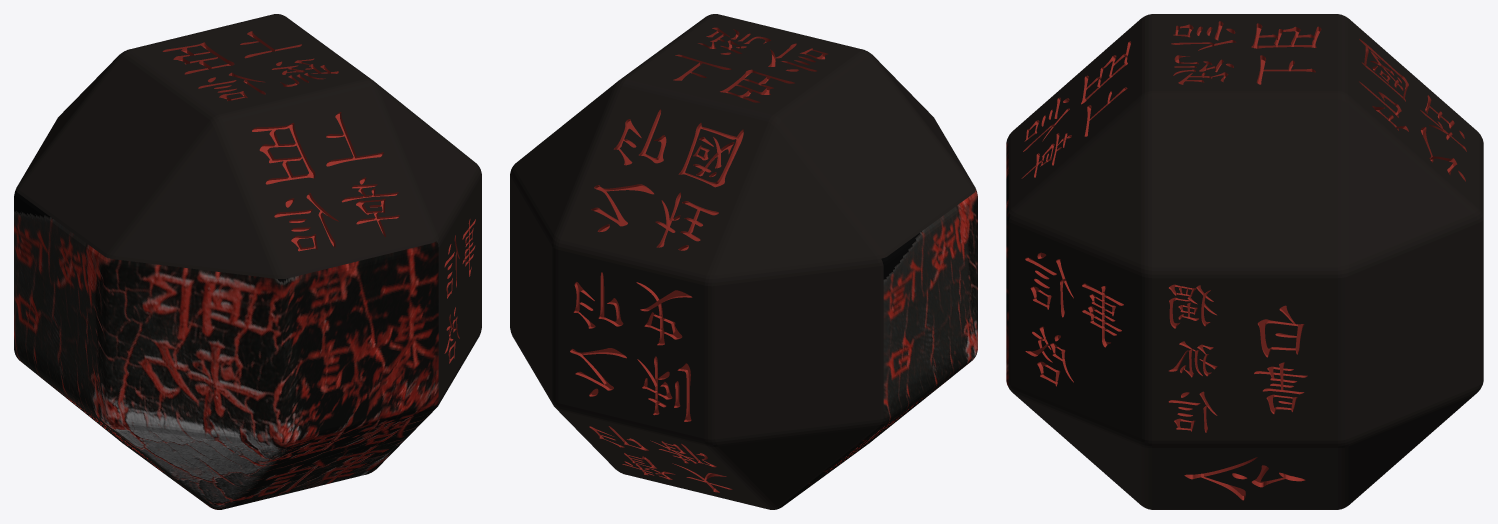
Rendered from 独孤信多面印.glb.
The picture shows the model from 3 angles, left to right: view 1: azimuth 30°, elevation 25°; view 2: azimuth 150°, elevation 25°; view 3: azimuth 270°, elevation 25°; orthographic projection. The views are drawn at different scales.
Visible parts, largest first — view 1: DuguXin_Seal; view 2: DuguXin_Seal; view 3: DuguXin_Seal.
Part boxes in pixels (x1,y1,x2,y2): DuguXin_Seal: (14,14,481,509); DuguXin_Seal: (510,14,977,509); DuguXin_Seal: (1006,14,1483,509).
Size of the model in its own units: 0.0435 by 0.0435 by 0.045.
Materials: 27 (7 with a texture image).
